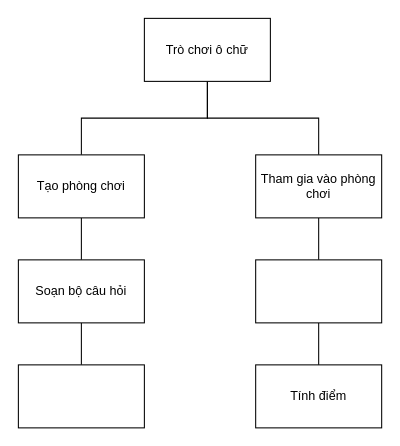
Image size: 400x446. Some labels were removed from this diagram. Here are the shapes that lost their labels. From the top down, the centre of each, then its label:
(318,291): Chọn và trả lời câu hỏi
(80,396): Soạn ô chữ
